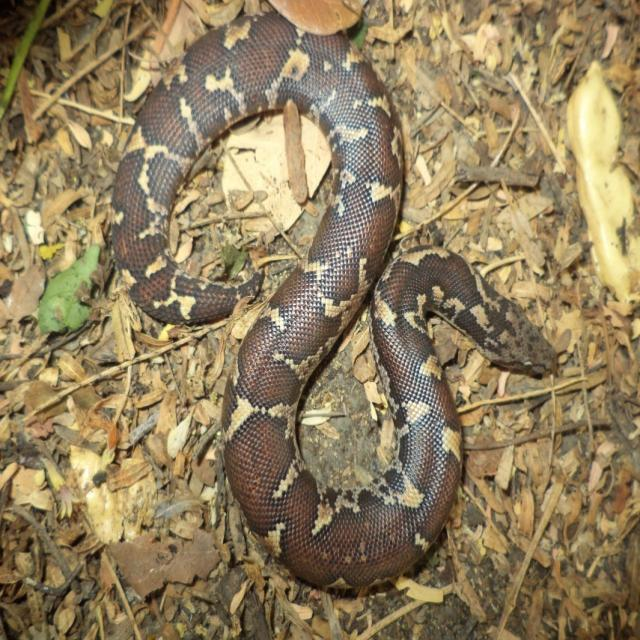Snake: (109, 9, 557, 591)
